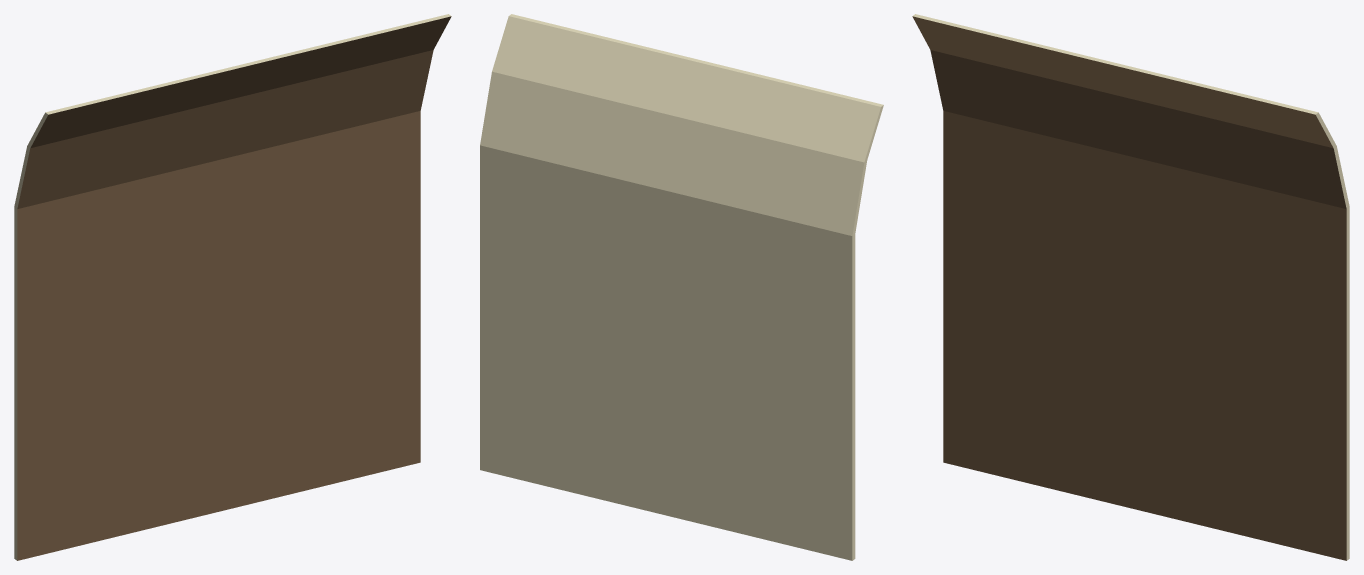
File: create_sand_paper.obj
The picture shows the model from 3 angles, left to right: view 1: azimuth 30°, elevation 25°; view 2: azimuth 150°, elevation 25°; view 3: azimuth 330°, elevation 25°; orthographic projection. The views are drawn at different scales.
Parts seen in each view (by area): view 1: abrasive_sheet; view 2: abrasive_sheet; view 3: abrasive_sheet.
Part boxes in pixels (<box>): abrasive_sheet: <box>14,14,451,560</box>; abrasive_sheet: <box>480,14,883,560</box>; abrasive_sheet: <box>912,14,1349,560</box>.
Bounding box in the file's own units: 0.5625 × 0.625 × 0.0825.
